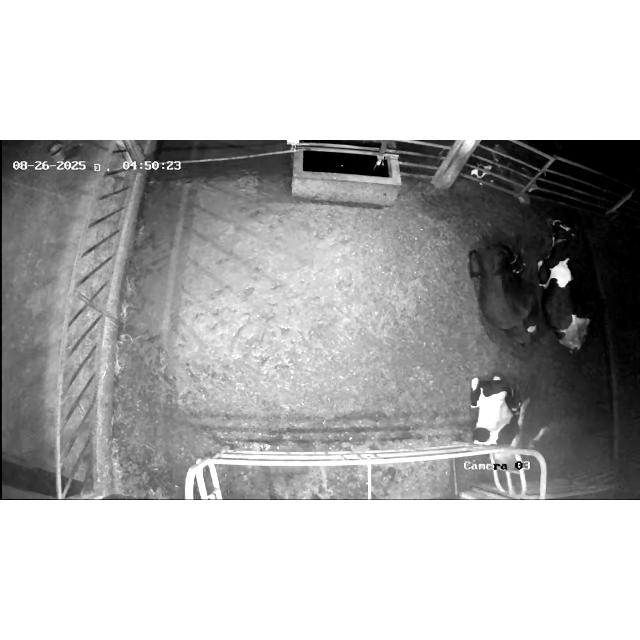lay: (452, 236, 542, 360), (540, 200, 598, 370), (462, 372, 548, 462)
